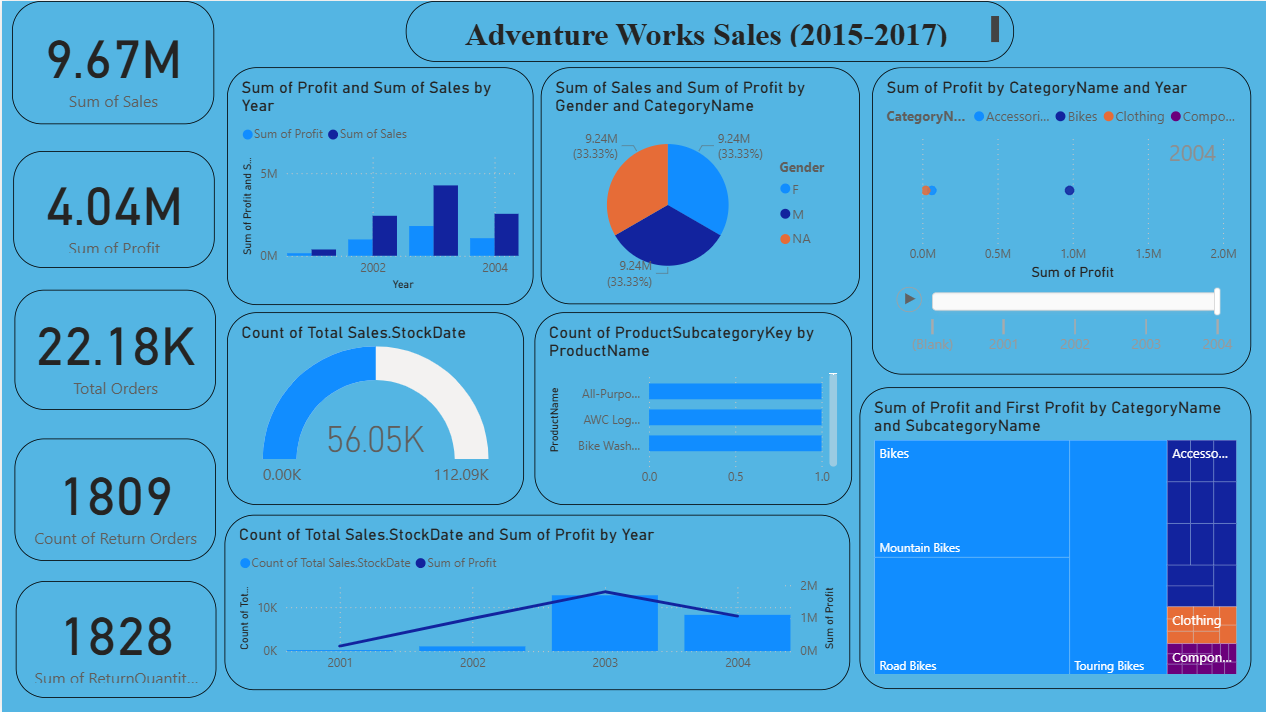

What the dashboard file says about the page in this screenshot:
{"tool":"powerbi","page":{"name":"Dashboard","canvas":[1280,720],"ordinal":7},"visuals":[{"type":"textbox","box":[409.3,0,616.3,61.6],"z":0},{"type":"card","fields":{"Values":["Sum(Merge2.Sales)"]},"box":[9.8,0,204.9,125.2],"z":1000},{"type":"card","fields":{"Values":["Sum(Merge2.Profit)"]},"box":[11.4,151.4,204.3,118.6],"z":2000},{"type":"card","fields":{"Values":["CountNonNull(Merge2.Total Sales.OrderNumber)"]},"box":[12.9,292.9,204.3,121.4],"z":3000},{"type":"clusteredColumnChart","fields":{"Y":["Sum(Merge2.Profit)","Sum(Merge2.ProductPrice)"],"Category":["Merge2.Total Sales.StockDate.Variation.Date Hierarchy.Year"]},"box":[228.2,67.5,310.4,240.5],"z":4000},{"type":"card","fields":{"Values":["CountNonNull(AdventureWorks_Returns.ReturnDate)"]},"box":[12.9,442.9,204.3,124.3],"z":5000},{"type":"pieChart","fields":{"Category":["AdventureWorks_Customers.Gender"],"Y":["Sum(Merge2.Sales)"],"Series":["AdventureWorks_Product_Categories.CategoryName"]},"box":[545.7,67.1,322.9,240],"z":6000},{"type":"treemap","fields":{"Details":["AdventureWorks_Product_Subcategories.SubcategoryName"],"Values":["Sum(Merge2.Profit)"],"Group":["AdventureWorks_Product_Categories.CategoryName"]},"box":[868.6,391.4,397.1,305.7],"z":7000},{"type":"lineClusteredColumnComboChart","fields":{"Y":["CountNonNull(Merge2.Total Sales.StockDate Hierarchy.Total Sales.StockDate)"],"Y2":["Sum(Merge2.Profit)"],"Category":["Merge2.Total Sales.StockDate.Variation.Date Hierarchy.Year"]},"box":[225.6,519.8,633.7,177.9],"z":8000},{"type":"card","fields":{"Values":["AdventureWorks_Calendar.Sum of ReturnQuantity rolling average"]},"box":[14,587.2,203.5,118.6],"z":9000},{"type":"barChart","fields":{"Category":["sales with product name.ProductName"],"Y":["CountNonNull(sales with product name.ProductSubcategoryKey)"]},"box":[538.7,315.3,321.5,195.1],"z":10000},{"type":"gauge","fields":{"Y":["CountNonNull(Merge1.Total Sales.StockDate)"]},"box":[228.2,315.3,300.6,195.1],"z":11000},{"type":"scatterChart","fields":{"Series":["AdventureWorks_Product_Categories.CategoryName"],"Play":["Merge2.Total Sales.StockDate.Variation.Date Hierarchy.Year"],"X":["Sum(Merge2.Profit)"]},"box":[881.4,67.1,384.3,311.4],"z":12000}]}

Visuals, with their boxes in screenshot pixels (x1, y1, x2, y2), scaled from the page's 1280x720 canvas onto the 1266x712 screenshot:
textbox: [left=405, top=0, right=1014, bottom=61]
card - Sum(Merge2.Sales): [left=10, top=0, right=212, bottom=124]
card - Sum(Merge2.Profit): [left=11, top=150, right=213, bottom=267]
card - CountNonNull(Merge2.Total Sales.OrderNumber): [left=13, top=290, right=215, bottom=410]
clusteredColumnChart - Sum(Merge2.Profit) x Sum(Merge2.ProductPrice): [left=226, top=67, right=533, bottom=305]
card - CountNonNull(AdventureWorks_Returns.ReturnDate): [left=13, top=438, right=215, bottom=561]
pieChart - AdventureWorks_Customers.Gender x Sum(Merge2.Sales): [left=540, top=66, right=859, bottom=304]
treemap - AdventureWorks_Product_Subcategories.SubcategoryName x Sum(Merge2.Profit): [left=859, top=387, right=1252, bottom=689]
lineClusteredColumnComboChart - CountNonNull(Merge2.Total Sales.StockDate Hierarchy.Total Sales.StockDate) x Sum(Merge2.Profit): [left=223, top=514, right=850, bottom=690]
card - AdventureWorks_Calendar.Sum of ReturnQuantity rolling average: [left=14, top=581, right=215, bottom=698]
barChart - sales with product name.ProductName x CountNonNull(sales with product name.ProductSubcategoryKey): [left=533, top=312, right=851, bottom=505]
gauge - CountNonNull(Merge1.Total Sales.StockDate): [left=226, top=312, right=523, bottom=505]
scatterChart - AdventureWorks_Product_Categories.CategoryName x Merge2.Total Sales.StockDate.Variation.Date Hierarchy.Year: [left=872, top=66, right=1252, bottom=374]
